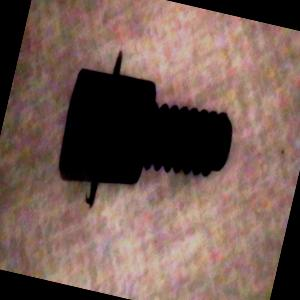parafuso: (47, 40, 246, 237)
